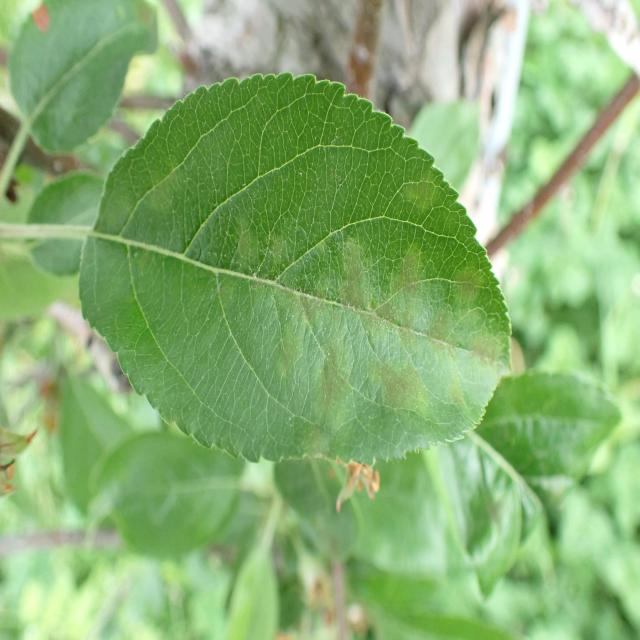scab: (104, 136, 514, 457)
